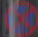No Stopping: (2, 1, 37, 35)
